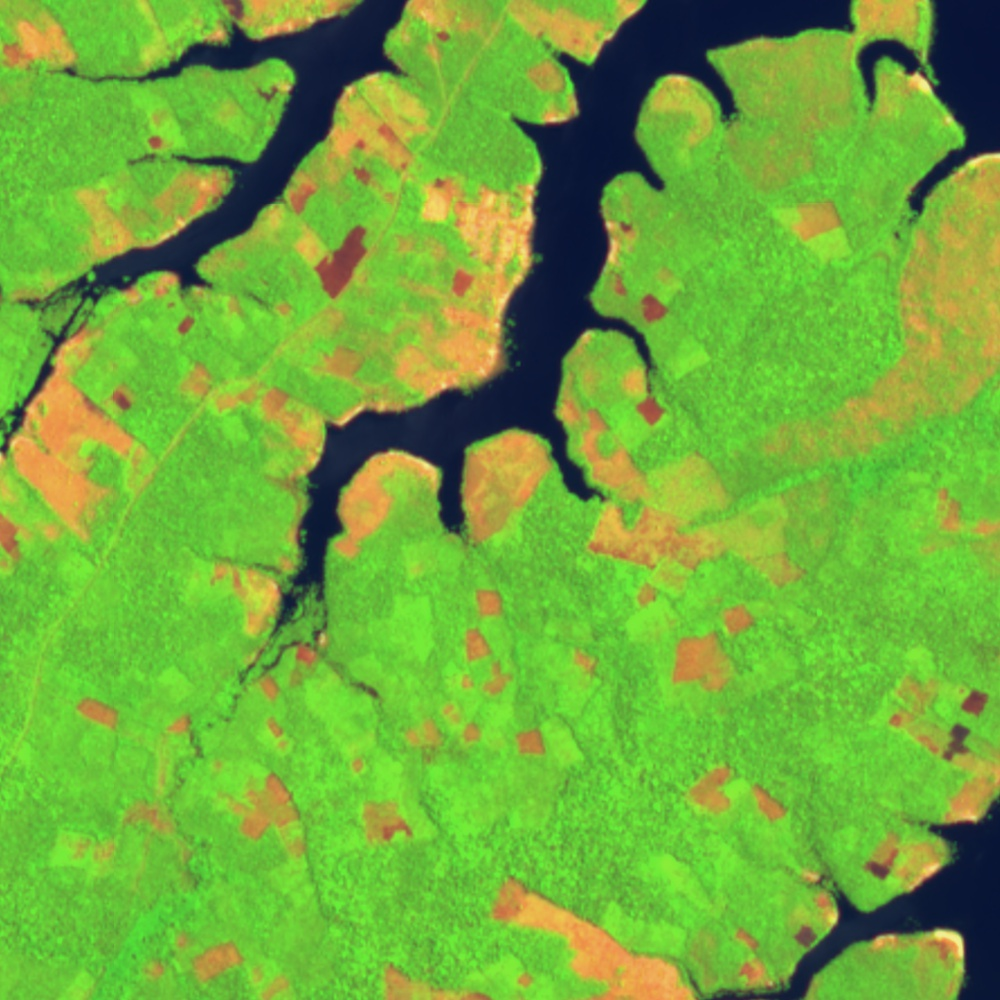legal: (1, 321, 152, 560), (553, 331, 731, 518), (488, 875, 708, 1000), (331, 303, 506, 430), (286, 71, 437, 218), (586, 499, 808, 592), (888, 667, 1000, 828), (233, 585, 387, 702), (129, 69, 296, 167), (418, 174, 539, 304), (75, 166, 237, 261), (183, 363, 336, 463), (55, 799, 203, 886), (331, 447, 441, 560), (113, 265, 250, 342), (462, 429, 550, 546), (148, 928, 287, 1000), (188, 1, 369, 49), (668, 605, 754, 700), (222, 773, 310, 862), (207, 557, 296, 639), (292, 219, 374, 298), (344, 759, 416, 845), (685, 767, 786, 827), (863, 830, 950, 898), (925, 488, 1000, 561), (790, 856, 844, 954), (776, 198, 854, 265), (404, 703, 481, 768), (280, 447, 323, 555), (876, 67, 955, 125), (385, 960, 491, 1000), (730, 925, 792, 992), (394, 1, 460, 63), (457, 626, 514, 695), (648, 77, 715, 134), (871, 928, 967, 964), (599, 205, 636, 297), (158, 712, 198, 787), (622, 367, 666, 426), (70, 695, 125, 739), (538, 85, 581, 126), (953, 146, 1000, 181), (571, 648, 605, 685), (512, 726, 548, 758), (475, 587, 505, 619), (641, 295, 668, 326), (268, 716, 289, 753), (643, 586, 668, 606)
